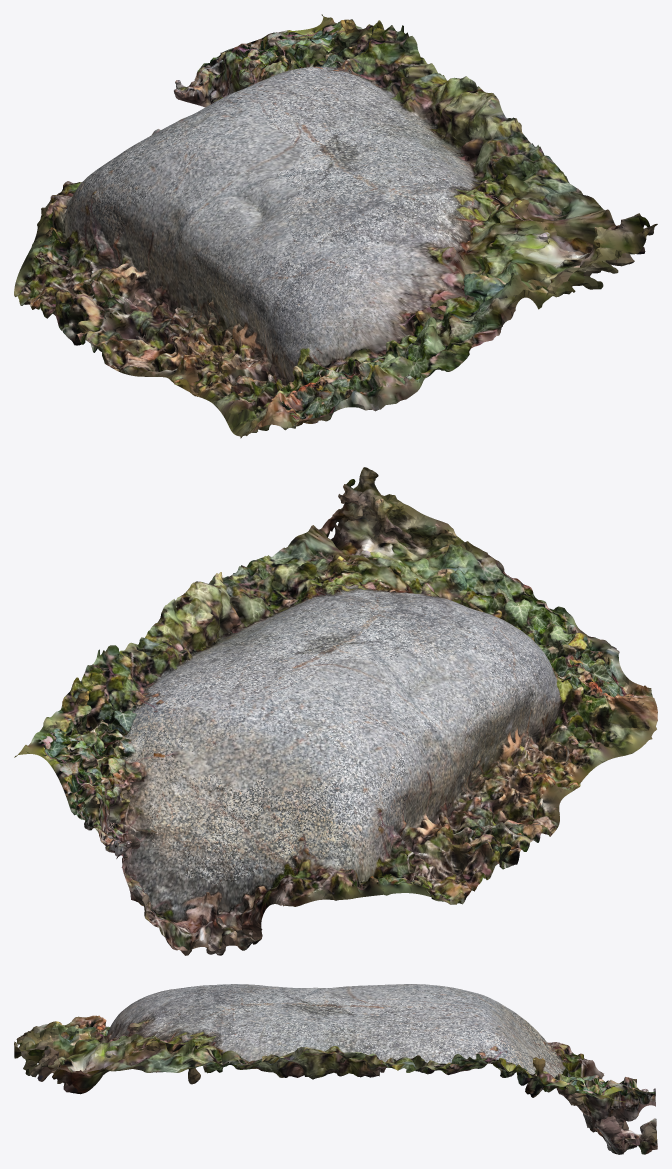
3 views of the same model, one above another, from view 1: azimuth 30°, elevation 25°; view 2: azimuth 150°, elevation 25°; view 3: azimuth 270°, elevation 25° (orthographic). The views are drawn at different scales.
Visible parts, largest first — view 1: nodes[0]; view 2: nodes[0]; view 3: nodes[0].
Boxes of the visible parts, box(x1,y1,x2,y2) form: nodes[0]: box(14, 14, 657, 438); nodes[0]: box(14, 467, 657, 955); nodes[0]: box(14, 984, 657, 1154).
Bounding box in the file's own units: 0.9932 × 0.5264 × 1.62.
Materials: 1 (1 with a texture image).
